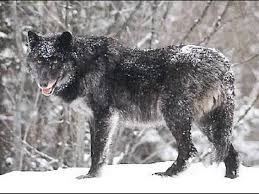Lobo: (16, 28, 247, 180)
